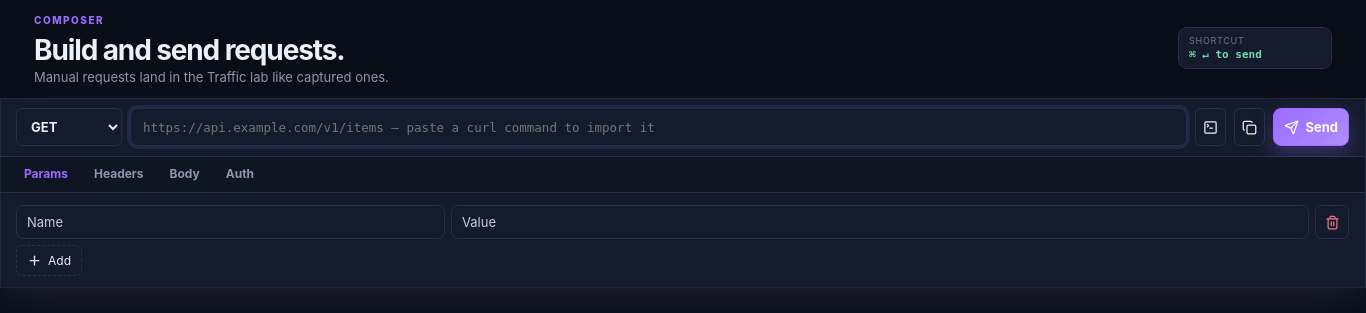
ComposerView › renders duplicate error-response headers without crashing
This screenshot has width=1366, height=313.
Type "https://api.test/bad-request" into the field named "Request URL". click: (659, 127)
box: x1=130 y1=108 x2=1188 y2=146
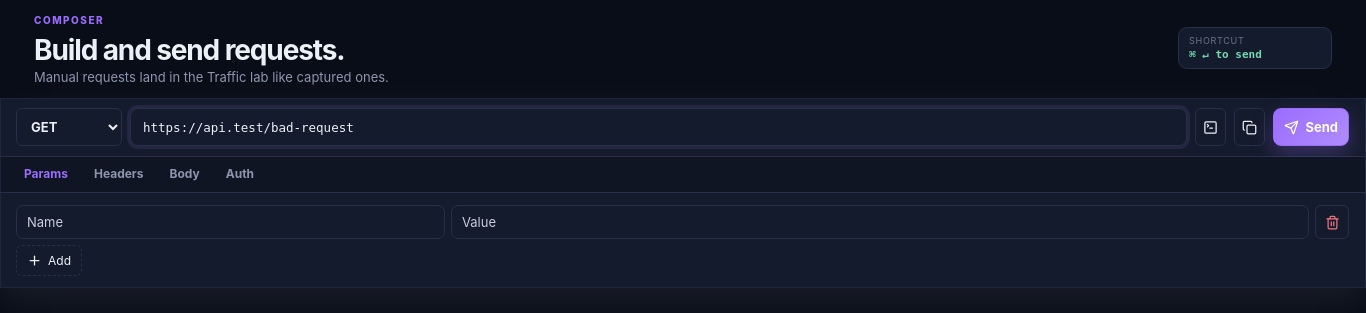
Click the button "Send". click: (1311, 127)
box: x1=1274 y1=108 x2=1349 y2=146
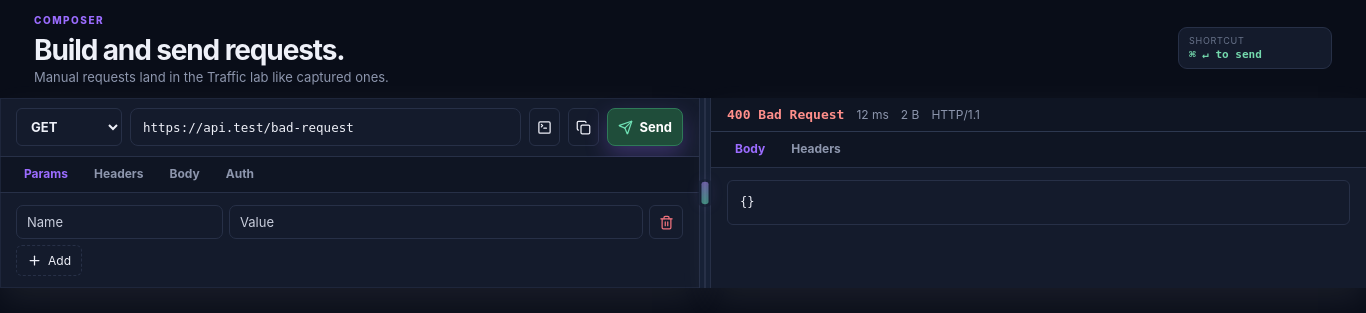
Click the button "Headers" below "400 Bad Request". click: (816, 150)
box: x1=779 y1=132 x2=853 y2=167
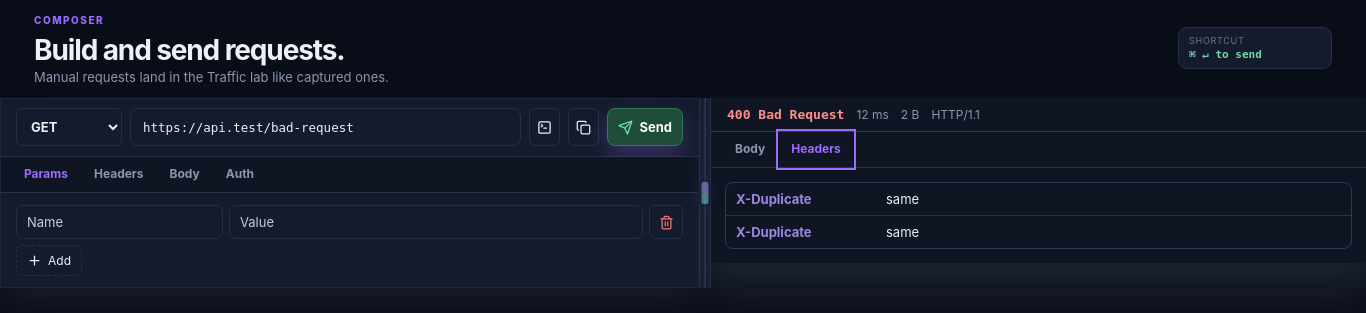
Check: the text "same" is shown 2 times, box x1=886 y1=191 x2=919 y2=207; x1=886 y1=224 x2=919 y2=240
